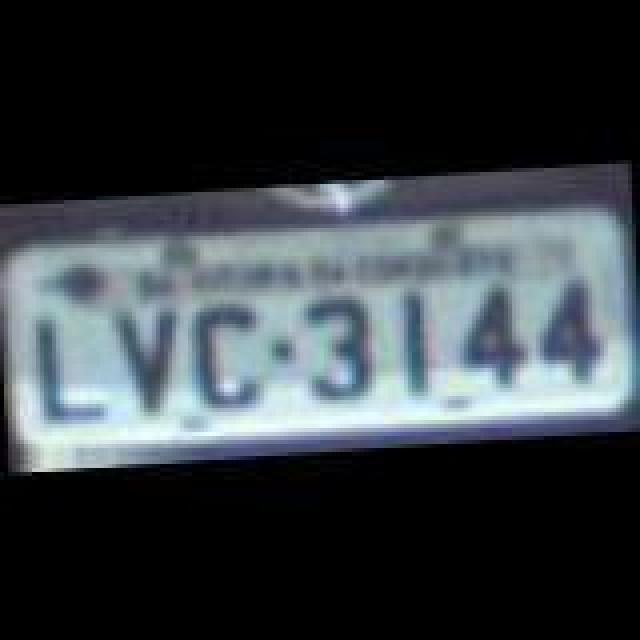1: (378, 288, 446, 400)
3: (294, 288, 378, 408)
4: (456, 276, 536, 396), (530, 274, 606, 398)
C: (184, 294, 264, 410)
L: (26, 304, 102, 432)
V: (104, 298, 184, 422)
